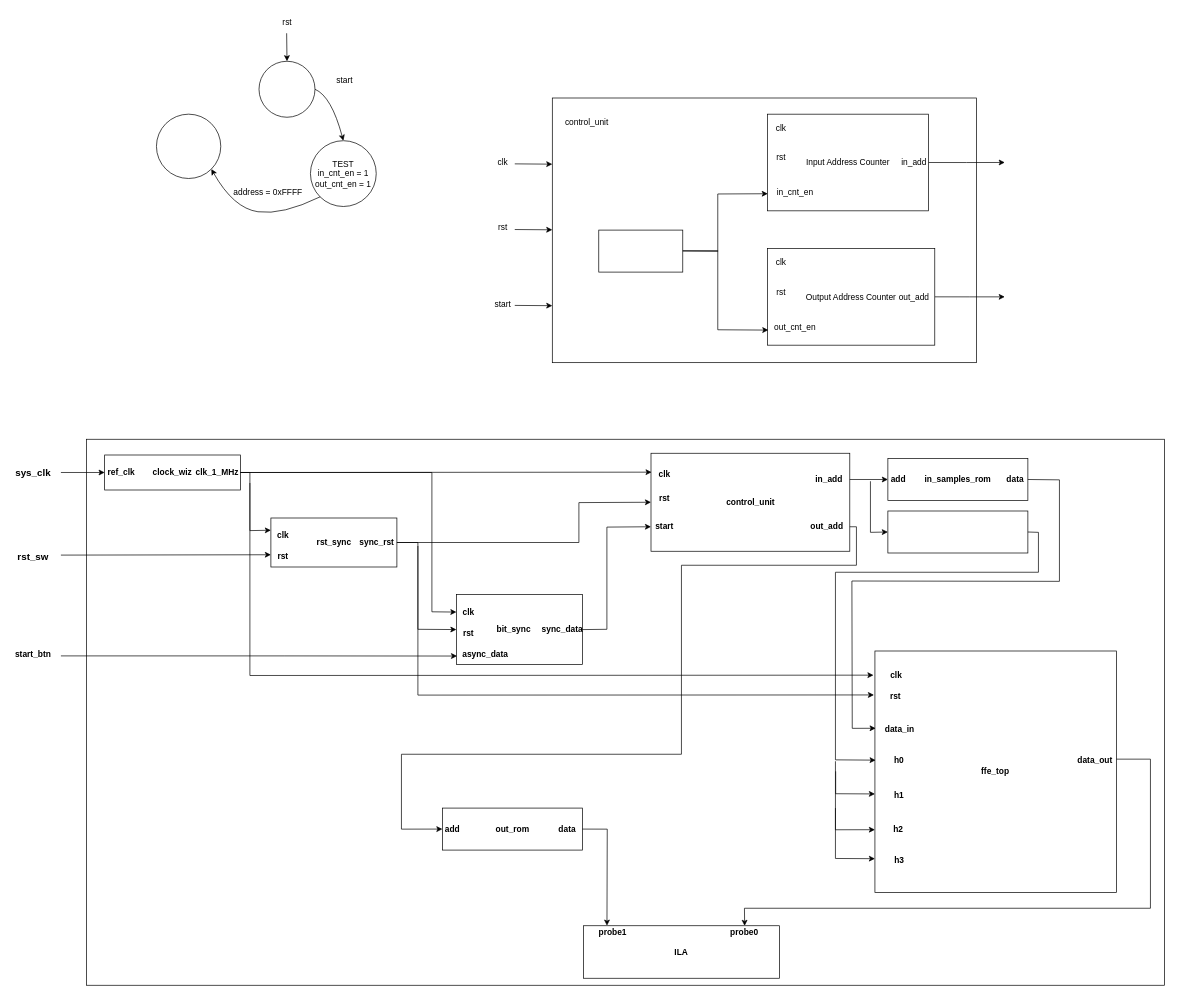
The diagram is 1177 pixels wide and 998 high, and some of its shapes have lost their labels. The centre of each missing label's shape, as x and y in pixels:
IDLE all = 0: (x=286, y=89)
in_coeffs_rom: (x=957, y=531)
state machine: (x=640, y=250)
STOP in_cnt_en = 0 out_cnt_en = 0: (x=188, y=145)
